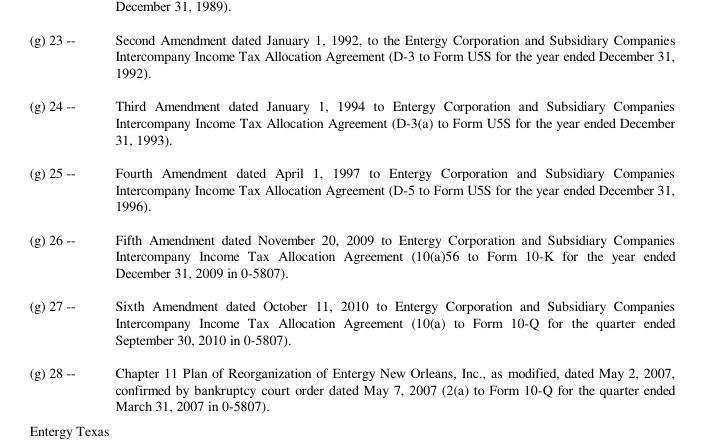table: (28, 28, 674, 414)
table column: (94, 28, 674, 414), (28, 28, 94, 414)
table row: (28, 154, 674, 221), (28, 221, 674, 288), (28, 88, 674, 154), (28, 288, 674, 354), (28, 28, 674, 88), (28, 354, 674, 414)
